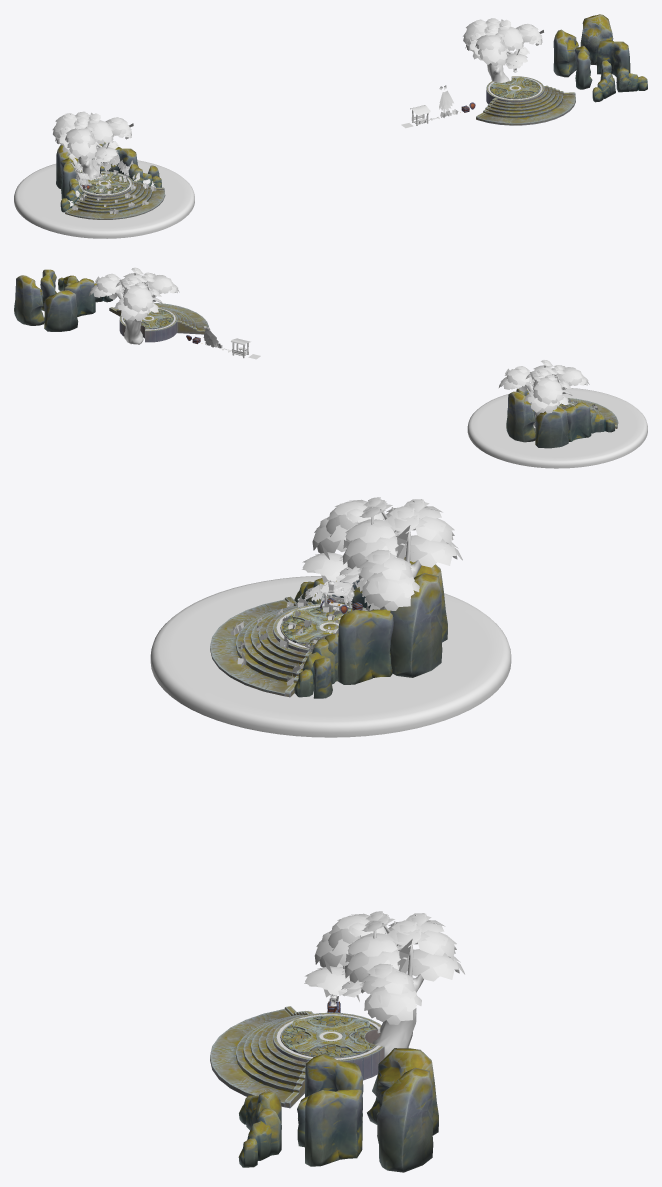
File: Fountain.fbx
3 views of the same model, one above another, from view 1: azimuth 30°, elevation 25°; view 2: azimuth 150°, elevation 25°; view 3: azimuth 270°, elevation 25° (orthographic). The views are drawn at different scales.
Parts seen in each view (by area): view 1: FountainDiorama_Example, F_Base, F_TreeLeaves, F_Rock7, F_Rock6, F_Rock5, F_Rock4, F_Rock2, F_Rock1, F_TreeTrunk; view 2: FountainDiorama_Example, F_TreeLeaves, F_Base, F_Rock7, F_Rock6, F_Rock4, F_TreeTrunk, F_Rock5; view 3: FountainDiorama_Example, F_TreeLeaves, F_Base, F_Rock7, F_Rock5, F_Rock6, F_Rock4, F_Rock2, F_TreeTrunk, F_Rock1.
Part boxes in pixels (x1,y1,x2,y2): FountainDiorama_Example: (14,111,194,238); F_Base: (476,76,575,125); F_TreeLeaves: (463,18,543,68); F_Rock7: (580,14,613,65); F_Rock6: (553,29,578,77); F_Rock5: (597,40,630,76); F_Rock4: (575,45,592,89); F_Rock2: (616,67,647,92); F_Rock1: (592,72,615,102); F_TreeTrunk: (476,21,523,82); FountainDiorama_Example: (467,360,647,468); F_TreeLeaves: (89,267,179,320); F_Base: (109,303,208,342); F_Rock7: (14,275,44,325); F_Rock6: (44,290,78,331); F_Rock4: (63,278,95,317); F_TreeTrunk: (115,269,156,344); F_Rock5: (40,269,56,311); FountainDiorama_Example: (150,497,511,737); F_TreeLeaves: (304,911,464,1024); F_Base: (210,1006,384,1108); F_Rock7: (376,1067,433,1172); F_Rock5: (305,1089,362,1166); F_Rock6: (367,1048,438,1135); F_Rock4: (305,1053,363,1118); F_Rock2: (238,1108,281,1167); F_TreeTrunk: (321,914,423,1057); F_Rock1: (239,1091,281,1130).
Size of the model in its own units: 14624 by 1815 by 3783.
